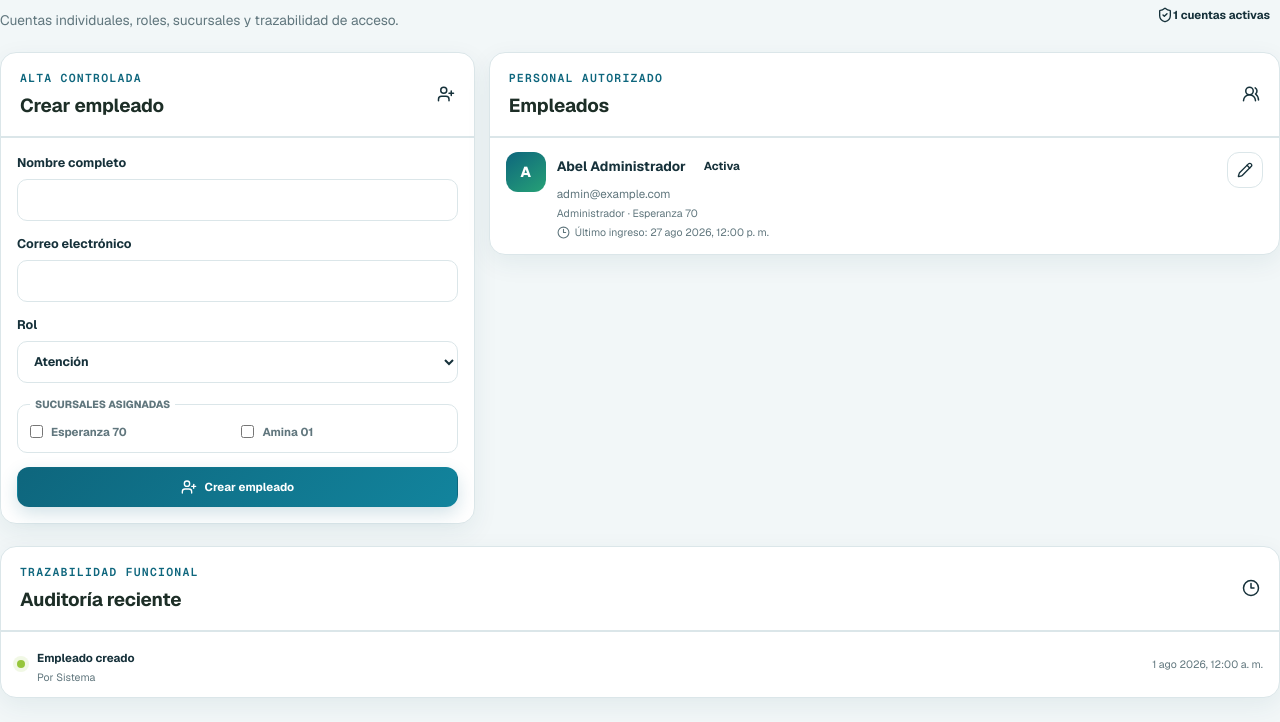
Scenario: AdministrationWorkspace › shows the one-time recovery link returned by the server
Click the button named "Editar Abel Administrador" at (1245, 170), box [1227,152,1263,188]
(page scrolled)
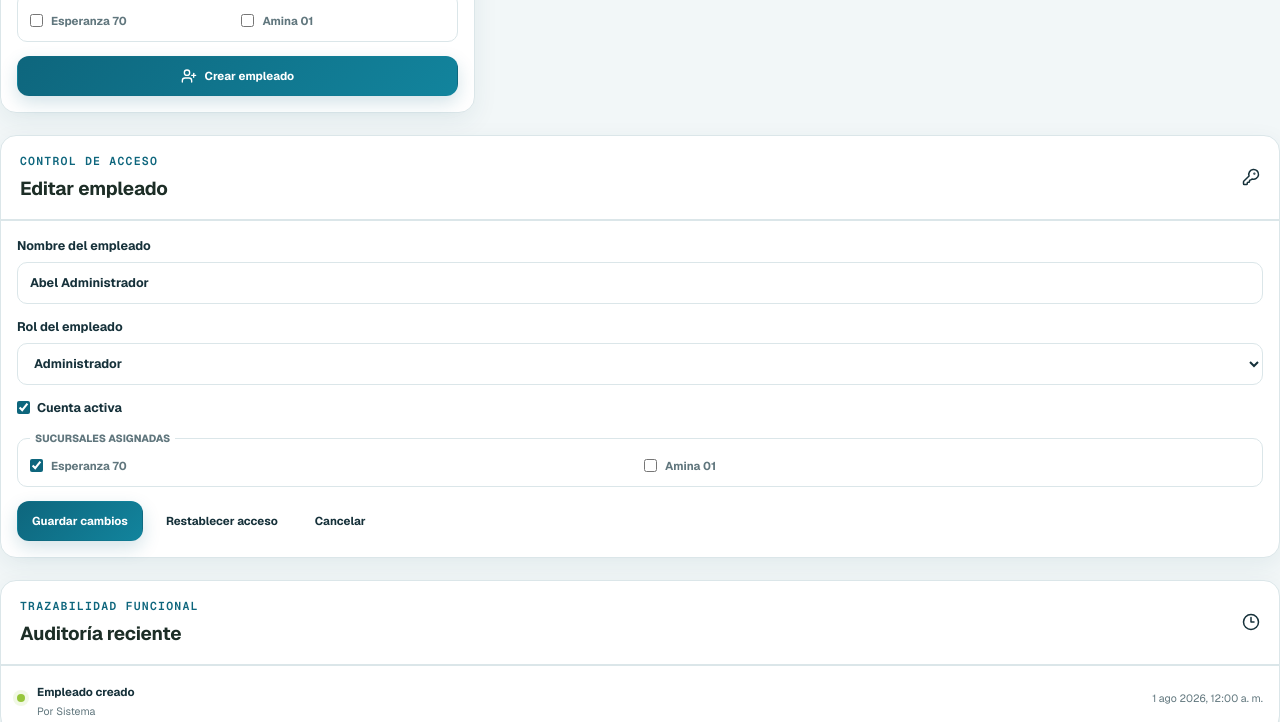
Click the button "Restablecer acceso" at (222, 521), box [152,501,292,541]
(page scrolled)
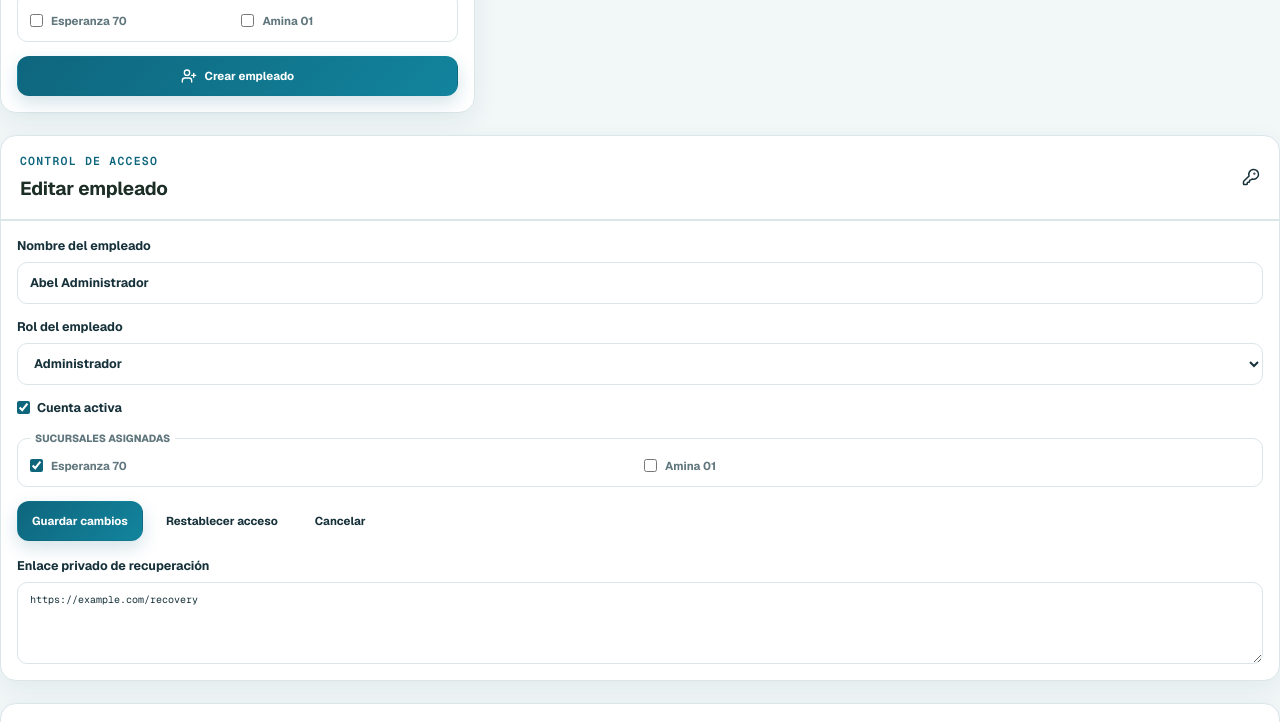
Expected: the text box showing "https://example.com/recovery" is shown, [17,582,1263,664]
